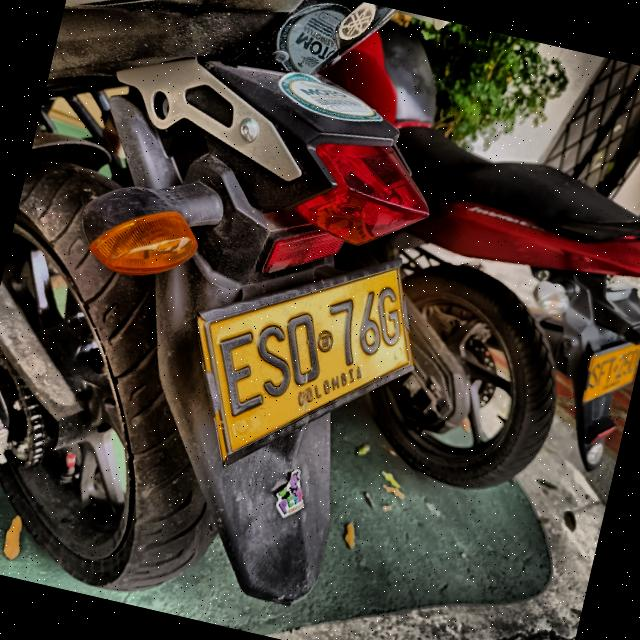6: (355, 286, 382, 361)
7: (326, 294, 359, 370)
E: (214, 326, 266, 421)
G: (375, 283, 403, 351)
O: (280, 310, 322, 390)
S: (253, 319, 292, 404)
